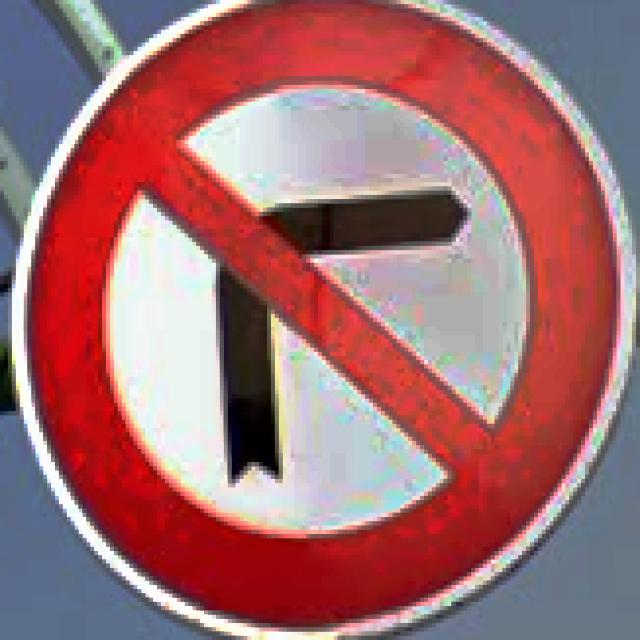noturnright: (8, 0, 636, 636)
